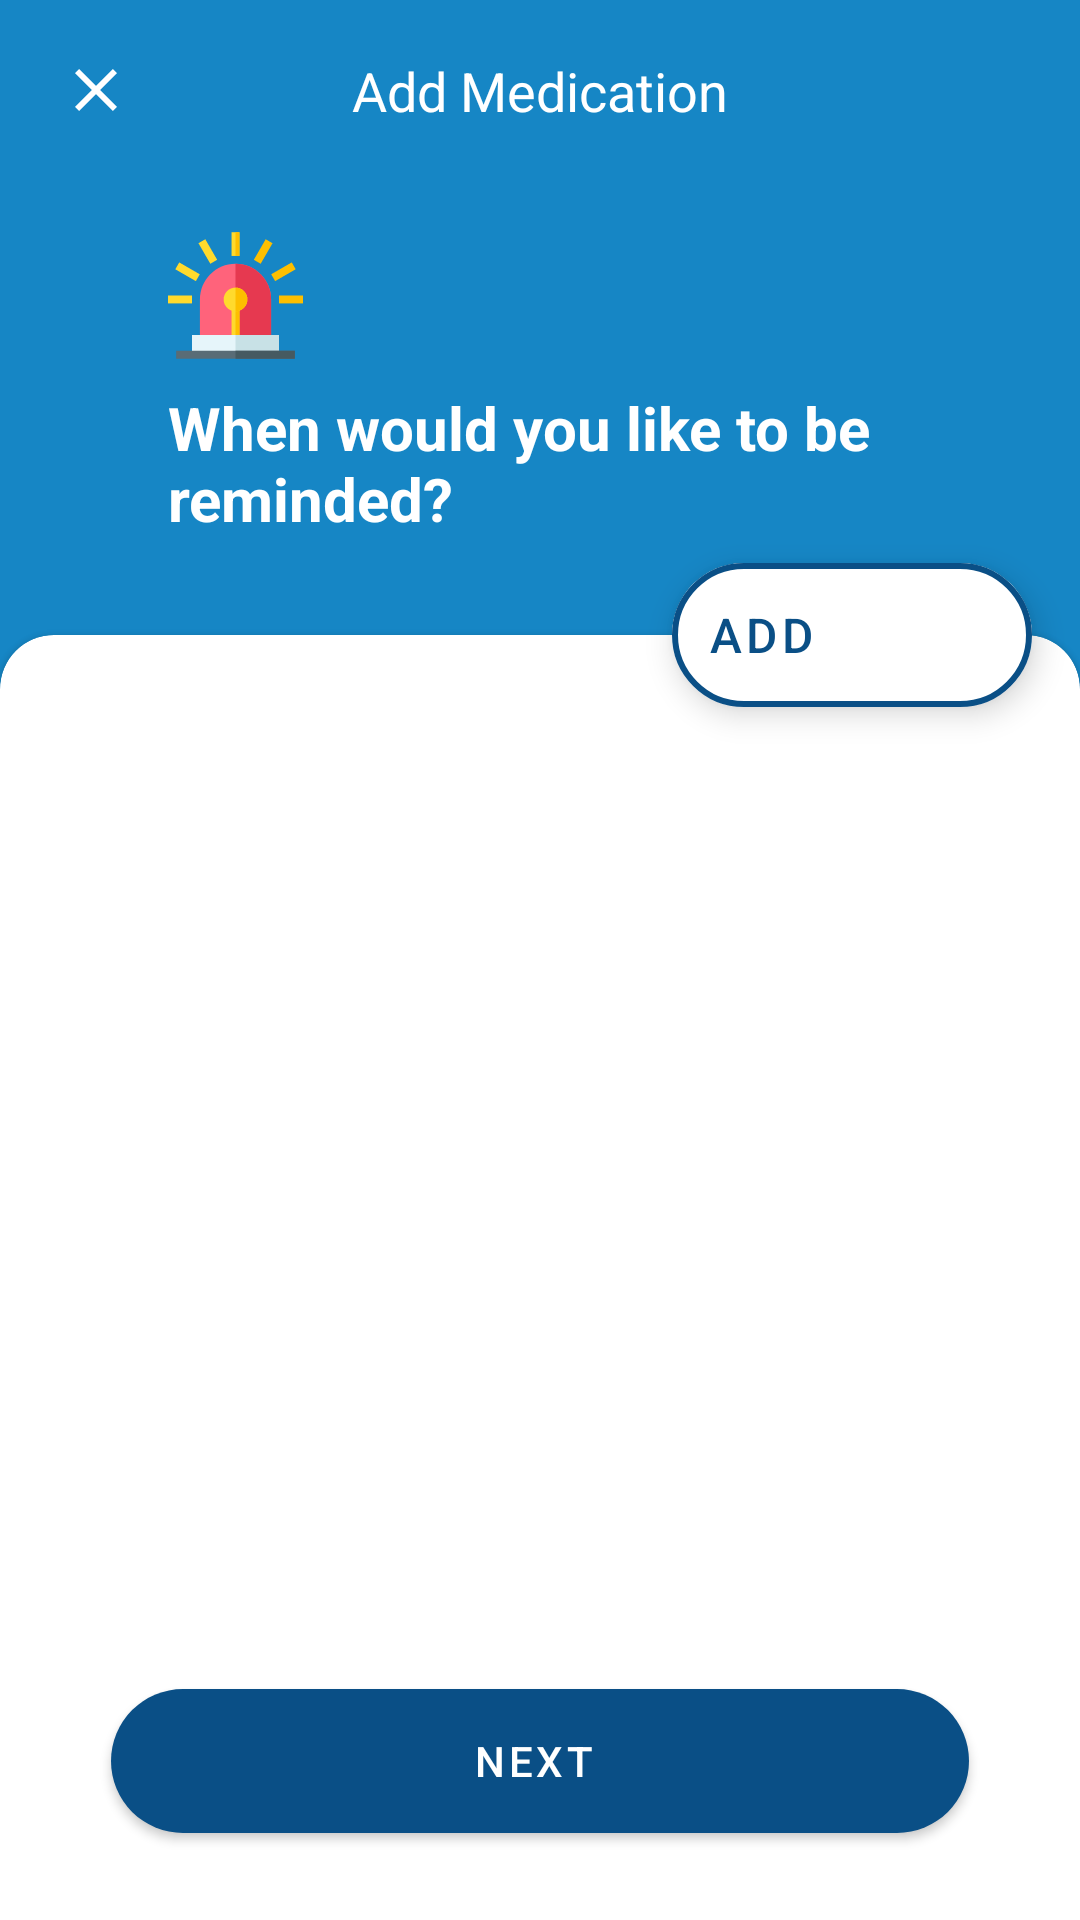

Screen size 1080 × 1920. Icon name, then its box in pixels as (x1, y1, x2, y2):
Close: (75, 69, 117, 111)
